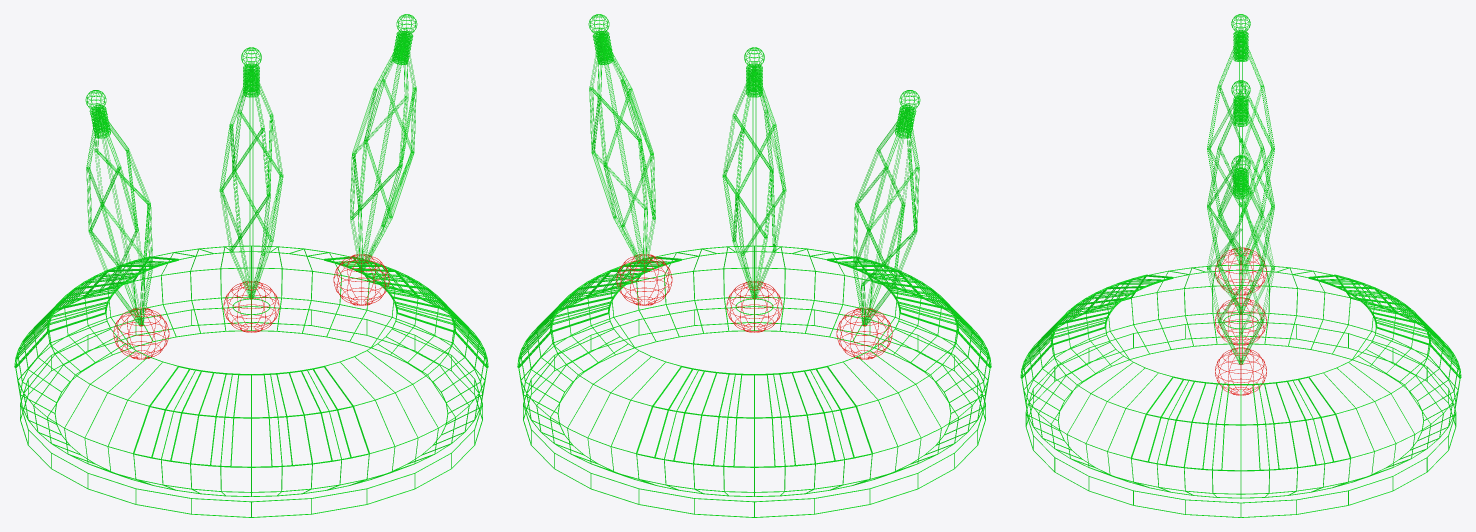
File: screen-generator-highlight-phase-synchronising-oscillators.glb
The picture shows the model from 3 angles, left to right: view 1: azimuth 30°, elevation 25°; view 2: azimuth 150°, elevation 25°; view 3: azimuth 270°, elevation 25°; orthographic projection. The views are drawn at different scales.
Parts seen in each view (by area): view 1: chassis technical wire, three-field-masts technical wire, phase-synchronising-oscillators technical wire, reverse-polarity-suppressers technical wire; view 2: chassis technical wire, three-field-masts technical wire, phase-synchronising-oscillators technical wire, reverse-polarity-suppressers technical wire; view 3: chassis technical wire, three-field-masts technical wire, phase-synchronising-oscillators technical wire, reverse-polarity-suppressers technical wire.
Boxes of the visible parts, x1=… form: chassis technical wire: x1=14, y1=245, x2=488, y2=517; three-field-masts technical wire: x1=86, y1=28, x2=416, y2=326; phase-synchronising-oscillators technical wire: x1=113, y1=254, x2=389, y2=359; reverse-polarity-suppressers technical wire: x1=85, y1=14, x2=417, y2=138; chassis technical wire: x1=517, y1=245, x2=991, y2=517; three-field-masts technical wire: x1=589, y1=28, x2=919, y2=326; phase-synchronising-oscillators technical wire: x1=616, y1=254, x2=892, y2=359; reverse-polarity-suppressers technical wire: x1=588, y1=14, x2=920, y2=138; chassis technical wire: x1=1020, y1=264, x2=1461, y2=517; three-field-masts technical wire: x1=1207, y1=28, x2=1274, y2=364; phase-synchronising-oscillators technical wire: x1=1215, y1=247, x2=1266, y2=395; reverse-polarity-suppressers technical wire: x1=1231, y1=14, x2=1250, y2=199.
Size of the model in its own units: 2.05 by 1.78 by 2.05.
